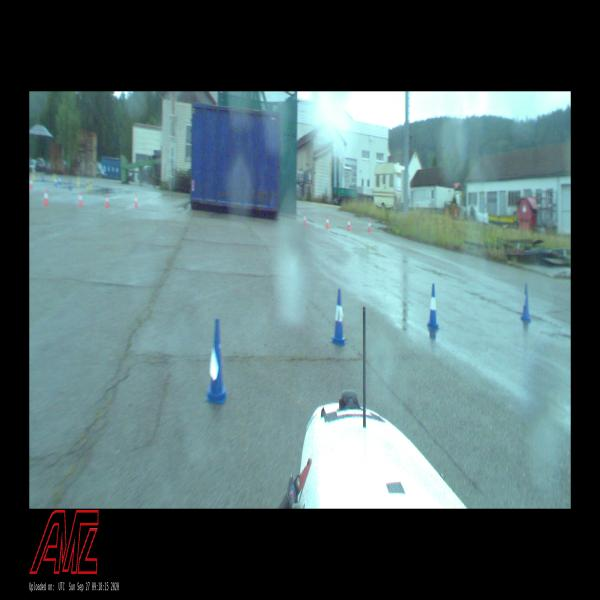blue_cone: (205, 318, 228, 405), (330, 289, 347, 346), (426, 283, 440, 329), (520, 283, 532, 322)
orange_cone: (105, 195, 110, 208), (78, 193, 83, 206), (44, 190, 48, 205), (134, 195, 138, 208), (326, 215, 330, 228), (347, 218, 351, 230), (303, 213, 307, 225), (368, 220, 372, 232)
